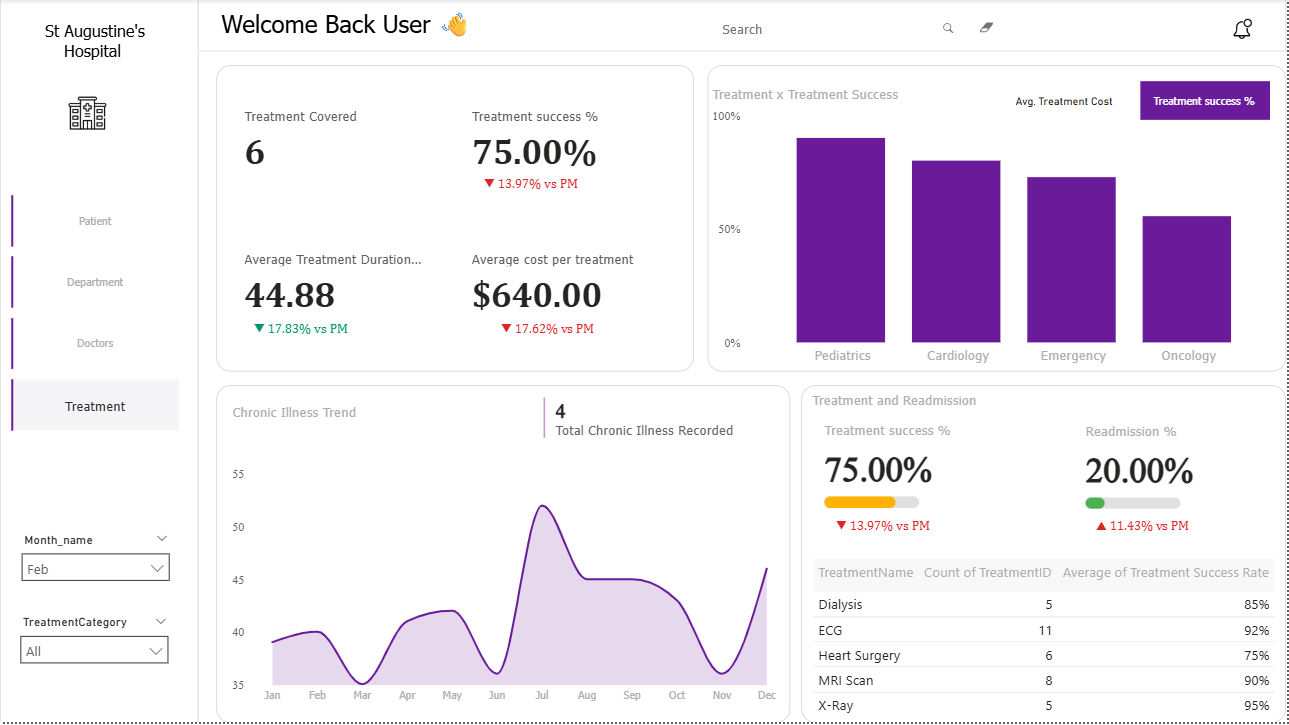

The dashboard page shown, as its layout file describes it:
{"tool":"powerbi","page":{"name":"Treatment","canvas":[1280,720],"ordinal":3},"visuals":[{"type":"shape","box":[215.2,384.4,571,335.9],"z":0},{"type":"shape","box":[704.1,65.9,576,304.8],"z":1000},{"type":"shape","box":[215.2,65.9,475.2,304.8],"z":2000},{"type":"shape","box":[0,0,1280,52.2],"z":3000},{"type":"shape","box":[0,0,197.6,720.4],"z":4000},{"type":"textbox","box":[215.2,3.7,571,43.5],"z":5000},{"type":"textbox","box":[19.9,17.4,149.3,68.4],"z":6000},{"type":"pageNavigator","box":[11,194.9,167.4,236],"z":7000},{"type":"image","box":[63.4,88.3,47.3,51],"z":8000},{"type":"image","box":[1220.3,14.9,32.3,29.9],"z":9000},{"type":"cardVisual","fields":{"Data":["Calculations.Total_Treatments"]},"box":[226.4,77.1,226.4,125.6],"z":10000},{"type":"cardVisual","fields":{"Data":["Calculations.Treatment success %"]},"box":[452.8,77.1,228.9,125.6],"z":11000},{"type":"cardVisual","fields":{"Data":["Calculations.Average Treatment Duration"]},"box":[226.4,202.8,226.4,159.2],"z":12000},{"type":"cardVisual","fields":{"Data":["Calculations.Average cost per treatment"]},"box":[452.8,202.8,228.9,159.2],"z":13000},{"type":"clusteredColumnChart","title":"Treatment  x Treatment Success","fields":{"Y":["Calculations.Treatment success %"],"Category":["Department_Dim.DepartmentName"]},"box":[704.1,85.8,576,286.1],"z":14000},{"type":"lineChart","title":"Chronic Illness Trend","fields":{"Category":["Calendar.Month_name"],"Y":["CountNonNull(FactTable.ChronicIllnessType)"]},"box":[226.4,459,559.8,250],"z":15000},{"type":"textbox","box":[226.4,396.8,167.9,34.8],"z":16000},{"type":"shape","box":[797.4,384.4,482.7,335.9],"z":17000},{"type":"tableEx","fields":{"Values":["Treatment_Dim.TreatmentName","FactTable.TreatmentID","Avg(FactTable.Treatment Success Rate)"]},"box":[803.6,552.3,471.5,167.9],"z":18000},{"type":"cardVisual","fields":{"Data":["Calculations.Treatment success %"]},"box":[803.6,396.8,189.1,141.8],"z":19000},{"type":"cardVisual","fields":{"Data":["Calculations.Readmission %"]},"box":[1063.6,398.1,189.1,140.6],"z":20000},{"type":"textbox","box":[803.6,384.4,220.2,34.8],"z":21000},{"type":"slicer","fields":{"Values":["Calendar.Month_name"]},"box":[11.2,526.2,167.9,58.5],"z":22000},{"type":"textFilter25A4896A83E0487089E2B90C9AE57C8A","fields":{"field":["Patient_Dim.PatientID"]},"box":[704.1,6.2,301,41.1],"z":23000},{"type":"slicer","fields":{"Values":["Treatment_Dim.TreatmentCategory"]},"box":[10,608.3,167.9,58.5],"z":24000},{"type":"multiRowCard","fields":{"Values":["FactTable.ChronicIllnessType"]},"box":[536.1,391.8,240.1,54.7],"z":25000},{"type":"advancedSlicerVisual","fields":{"Values":["Treatment_prm.Treatment_prm"]},"box":[992.7,77.1,277.4,48.5],"z":26000},{"type":"card","fields":{"Values":["Calculations.Total treatments MOM"]},"box":[475.2,169.2,107,33.6],"z":26001},{"type":"card","fields":{"Values":["Calculations.Total treatment duration MOM"]},"box":[247.5,313.5,104.5,33.6],"z":26002},{"type":"card","fields":{"Values":["Calculations.Total treatments MOM"]},"box":[822.3,508.8,113.2,33.6],"z":26003},{"type":"card","fields":{"Values":["Calculations.Total readmission MOM"]},"box":[1082.2,508.8,109.5,33.6],"z":26004},{"type":"card","fields":{"Values":["Calculations.Total avg cost MOM"]},"box":[490.1,313.5,109.5,33.6],"z":26005}]}

Visuals, with their boxes on the page's 1280x720 design canvas (x1, y1, x2, y2). These are canvas units, not pixel positions in the 1289x725 screenshot, which may show the page scaled, cropped or inside an application window:
shape: 215/384/786/720
shape: 704/66/1280/371
shape: 215/66/690/371
shape: 0/0/1280/52
shape: 0/0/198/720
textbox: 215/4/786/47
textbox: 20/17/169/86
pageNavigator: 11/195/178/431
image: 63/88/111/139
image: 1220/15/1253/45
cardVisual - Calculations.Total_Treatments: 226/77/453/203
cardVisual - Calculations.Treatment success %: 453/77/682/203
cardVisual - Calculations.Average Treatment Duration: 226/203/453/362
cardVisual - Calculations.Average cost per treatment: 453/203/682/362
"Treatment  x Treatment Success" clusteredColumnChart: 704/86/1280/372
"Chronic Illness Trend" lineChart: 226/459/786/709
textbox: 226/397/394/432
shape: 797/384/1280/720
tableEx - Treatment_Dim.TreatmentName x FactTable.TreatmentID: 804/552/1275/720
cardVisual - Calculations.Treatment success %: 804/397/993/539
cardVisual - Calculations.Readmission %: 1064/398/1253/539
textbox: 804/384/1024/419
slicer - Calendar.Month_name: 11/526/179/585
textFilter25A4896A83E0487089E2B90C9AE57C8A - Patient_Dim.PatientID: 704/6/1005/47
slicer - Treatment_Dim.TreatmentCategory: 10/608/178/667
multiRowCard - FactTable.ChronicIllnessType: 536/392/776/446
advancedSlicerVisual - Treatment_prm.Treatment_prm: 993/77/1270/126
card - Calculations.Total treatments MOM: 475/169/582/203
card - Calculations.Total treatment duration MOM: 248/314/352/347
card - Calculations.Total treatments MOM: 822/509/936/542
card - Calculations.Total readmission MOM: 1082/509/1192/542
card - Calculations.Total avg cost MOM: 490/314/600/347
